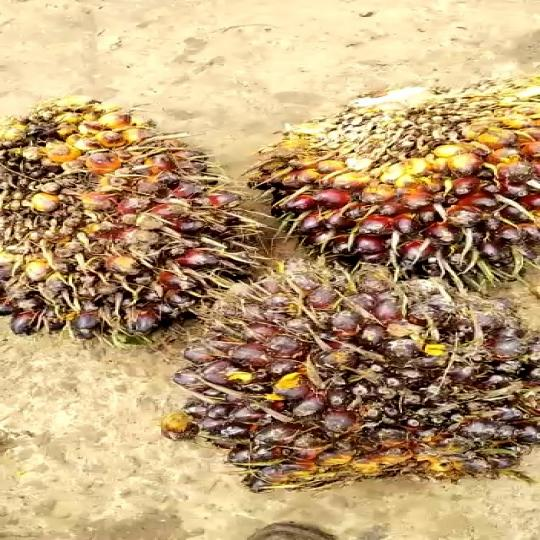kurang masak: (161, 260, 540, 496), (0, 95, 291, 344), (252, 76, 540, 281)
